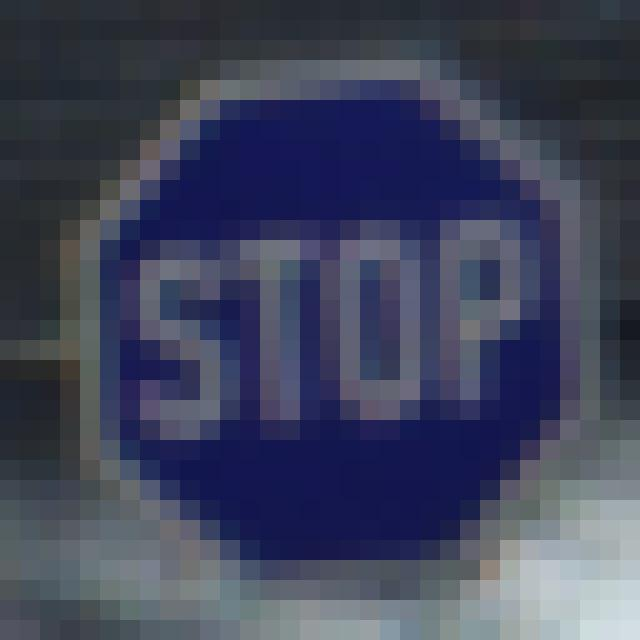STOP: (70, 57, 604, 596)
